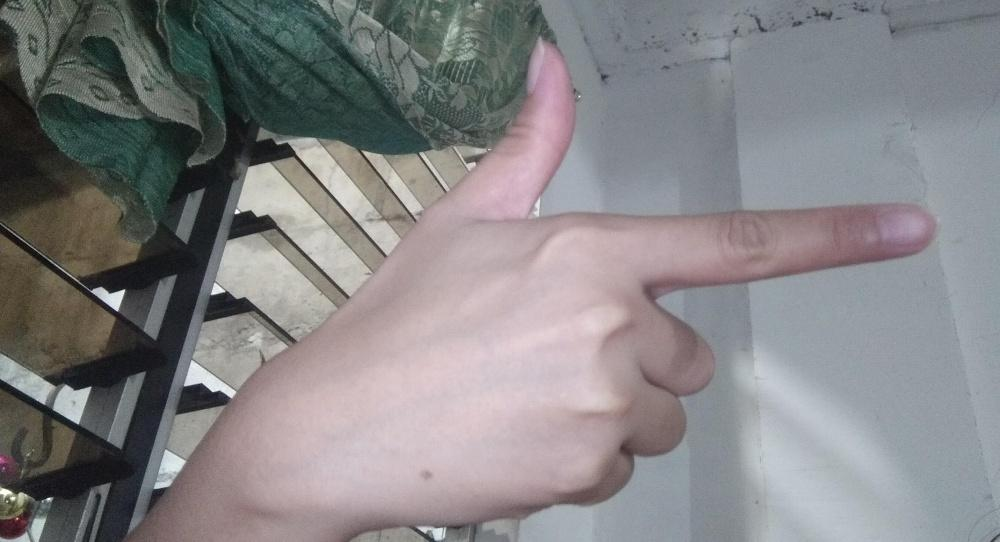g: (246, 32, 937, 529)
